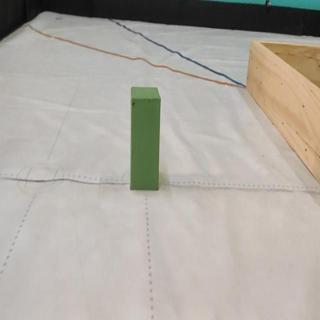greenbox: (127, 83, 161, 193)
